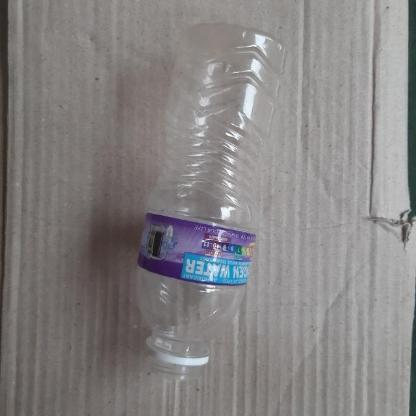Plastic Bottle: (135, 21, 290, 382)
